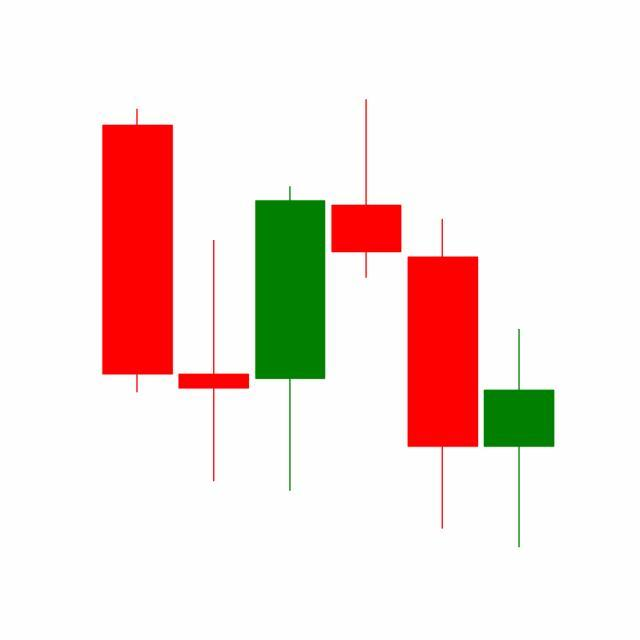Three Inside Up-Down: (252, 100, 482, 535)
